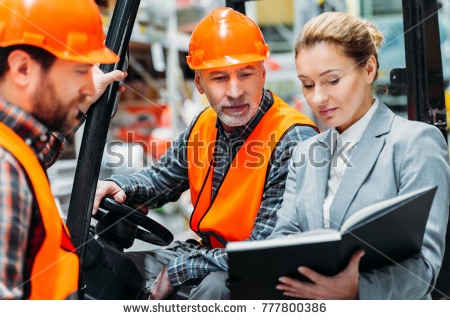none: (289, 9, 381, 128)
yellow: (2, 1, 109, 131), (183, 7, 274, 126)
